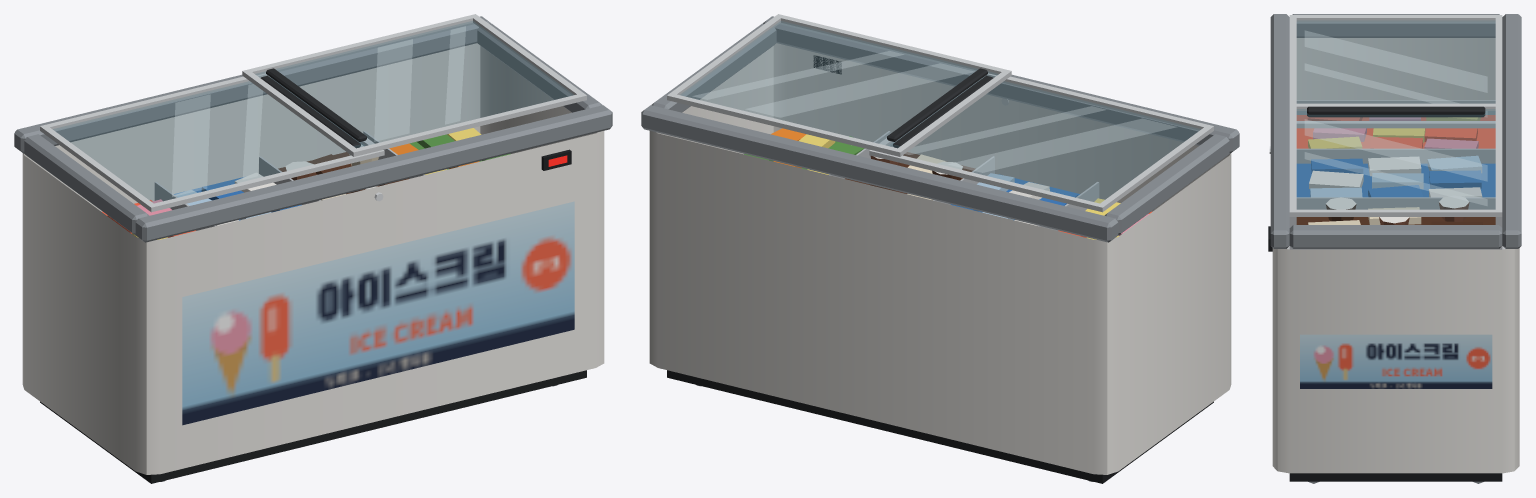
The model's file is SC_Fix_IceCream_Freezer.gltf.
3 renders of one model, left to right at view 1: azimuth 30°, elevation 25°; view 2: azimuth 150°, elevation 25°; view 3: azimuth 270°, elevation 25°, orthographic. The views are drawn at different scales.
Visible parts, largest first — view 1: SC_Fix_IceCream_Freezer; view 2: SC_Fix_IceCream_Freezer; view 3: SC_Fix_IceCream_Freezer.
Part boxes in pixels (bbox=[...]): SC_Fix_IceCream_Freezer: bbox=[14, 14, 612, 483]; SC_Fix_IceCream_Freezer: bbox=[641, 14, 1239, 483]; SC_Fix_IceCream_Freezer: bbox=[1268, 14, 1521, 483].
Size of the model in its own units: 1.51 by 0.917 by 0.7385.
4 materials, 4 textured.
